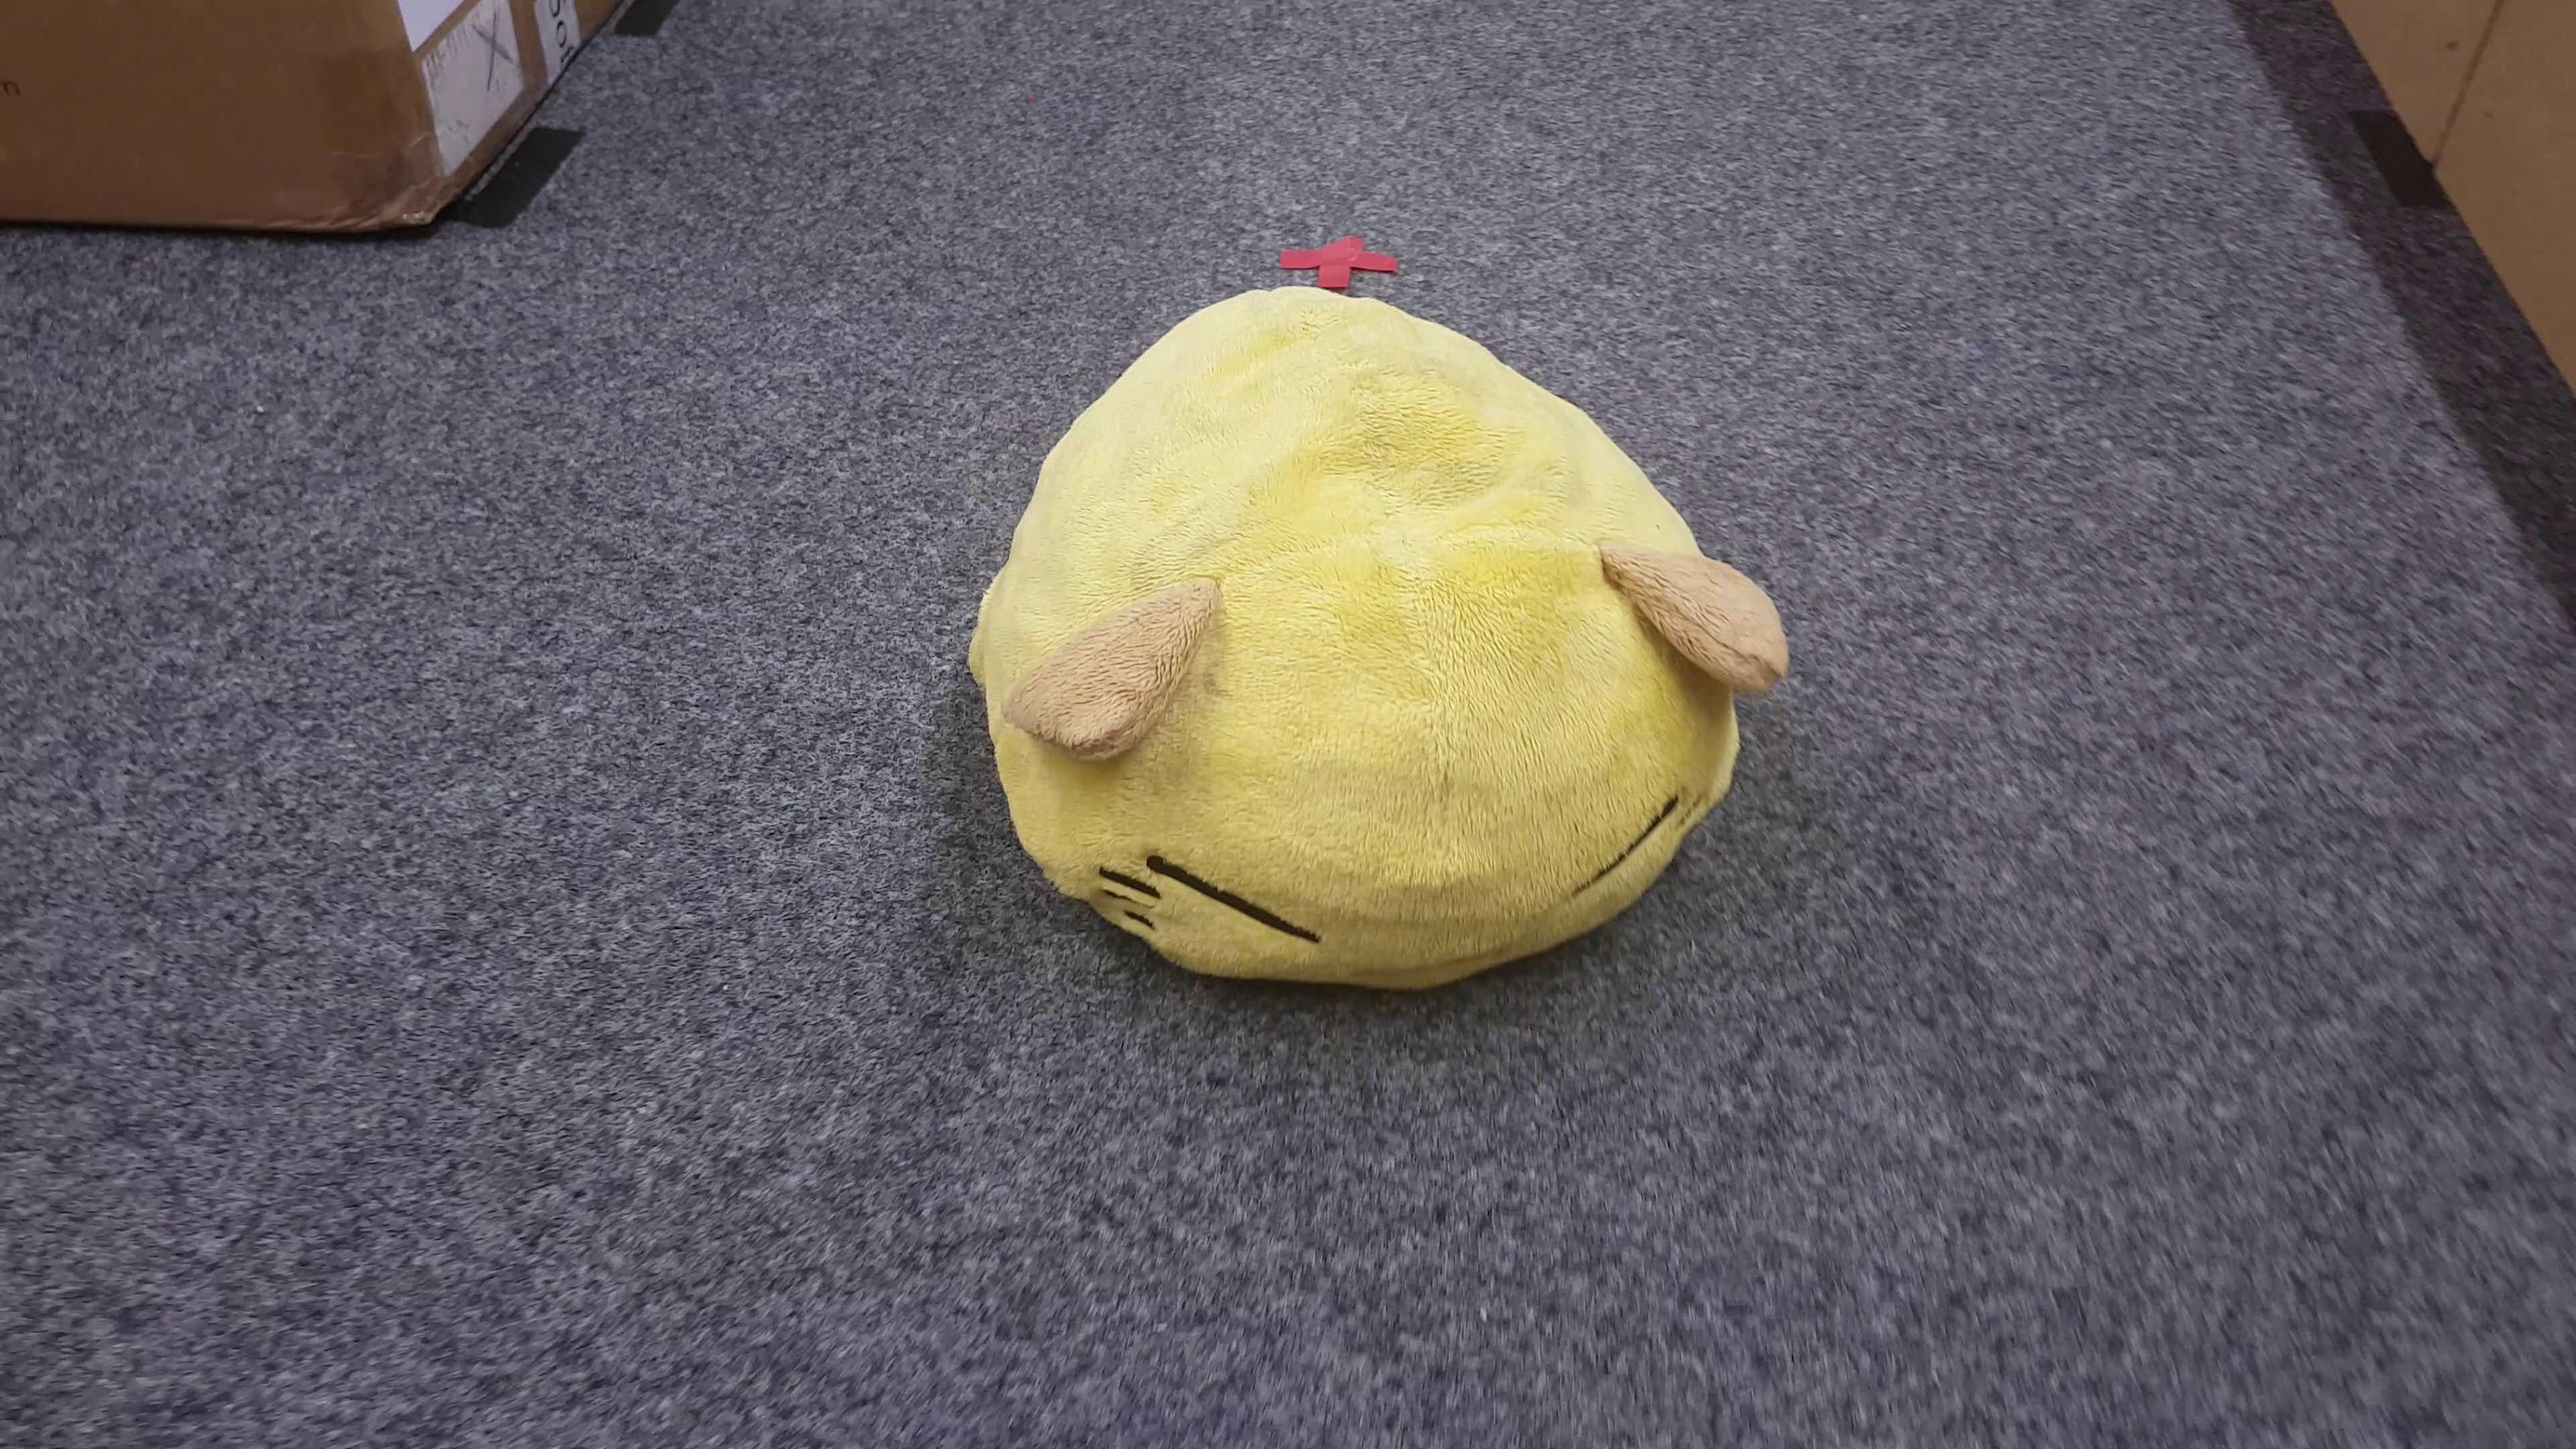grasp: (978, 280, 1787, 1000)
